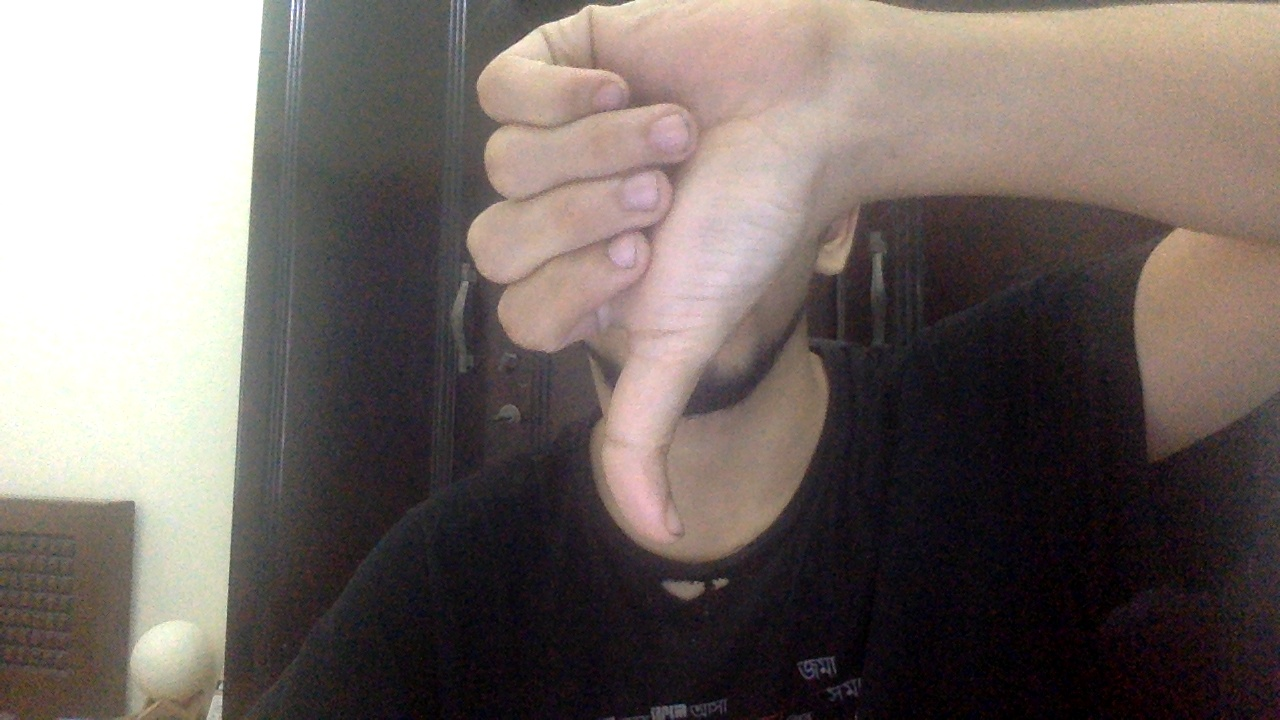bad: (466, 2, 845, 539)
